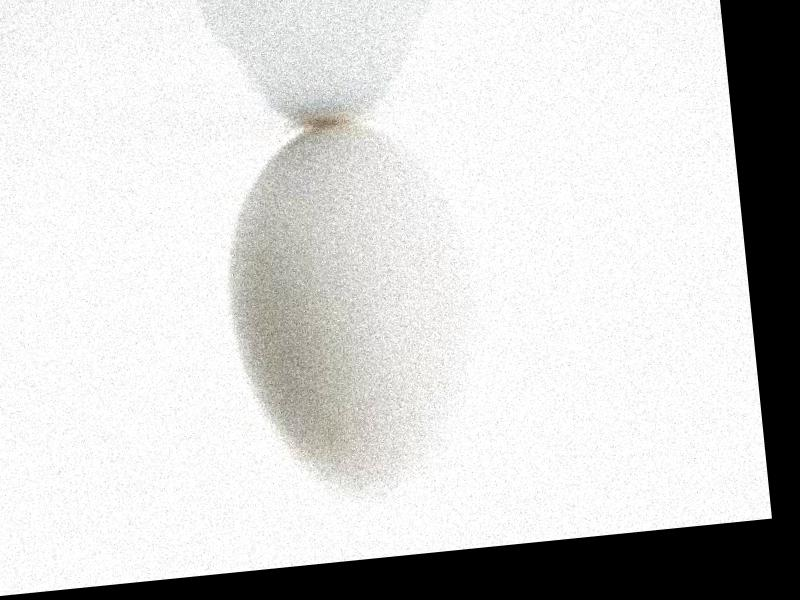Eggs: (213, 112, 485, 511)
